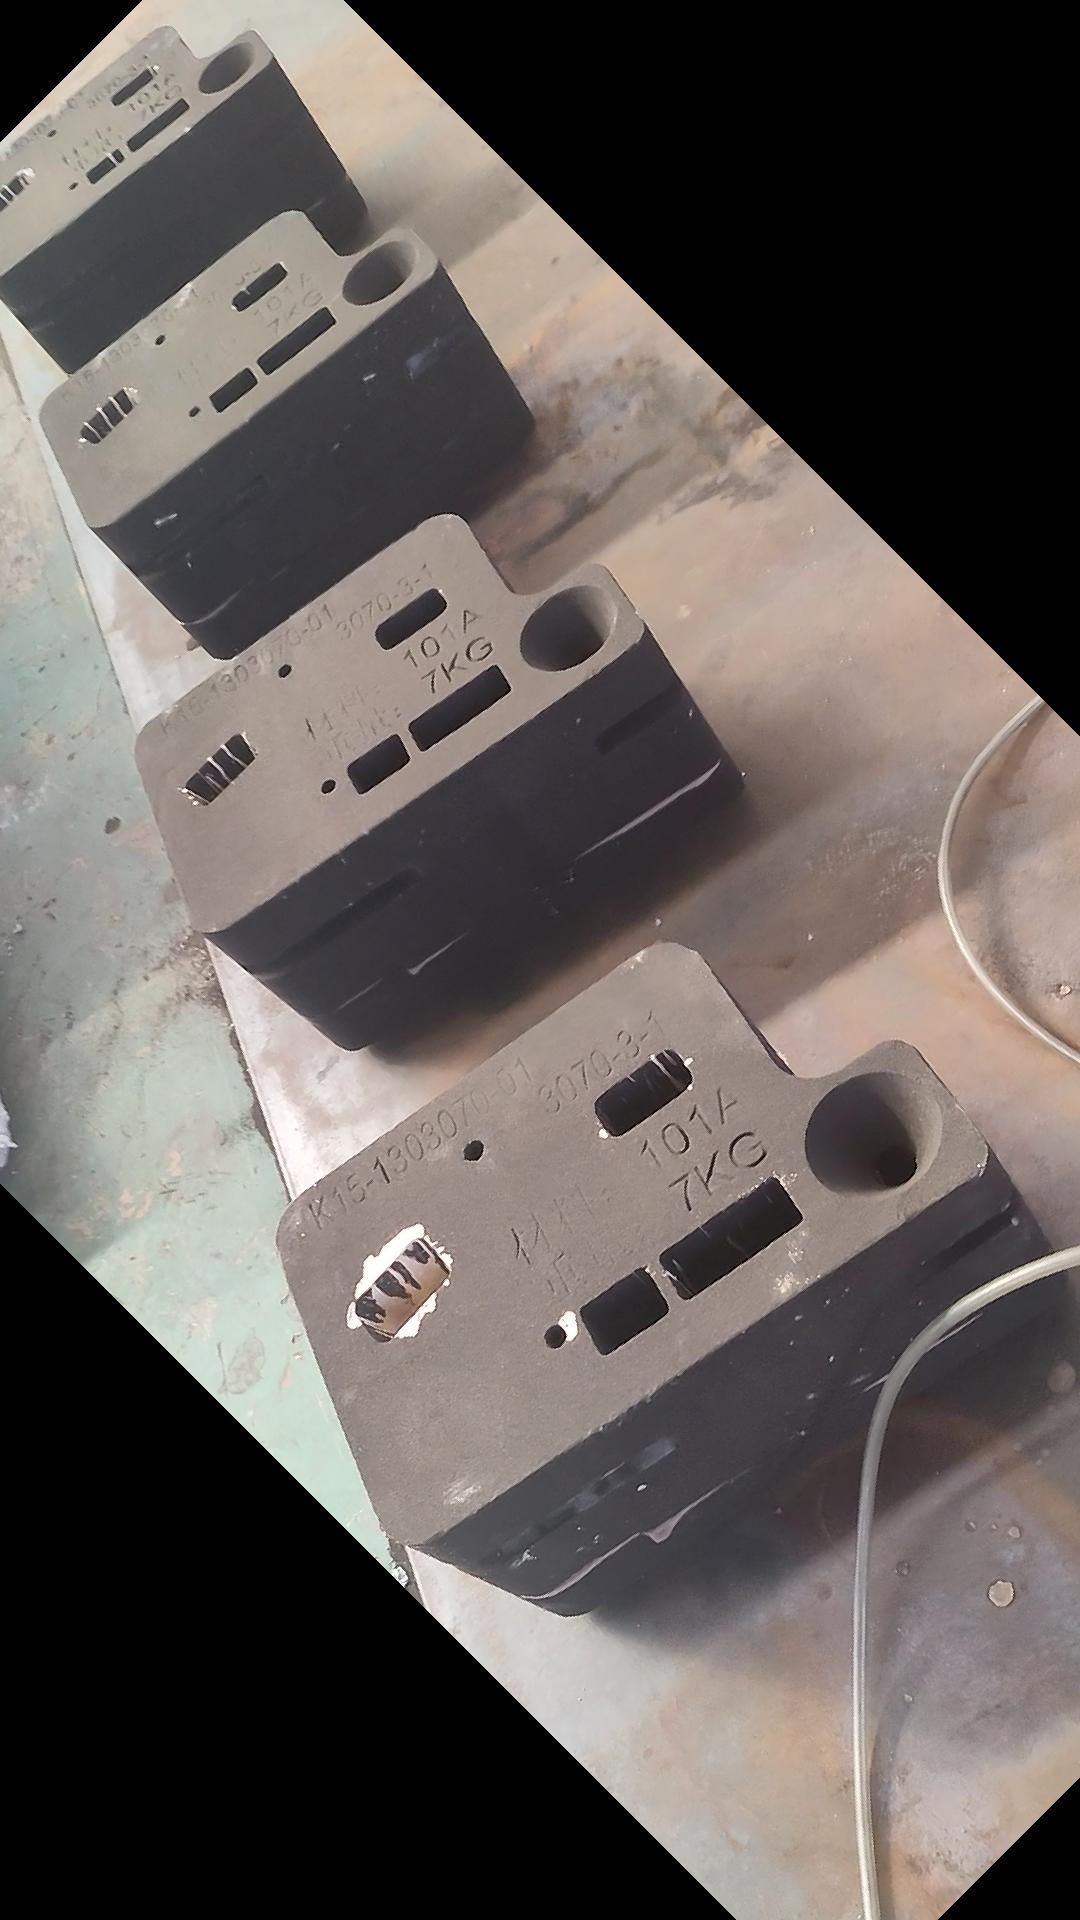pouring hole: (803, 1069, 943, 1201), (520, 582, 615, 673), (340, 240, 417, 306), (195, 44, 257, 95)
